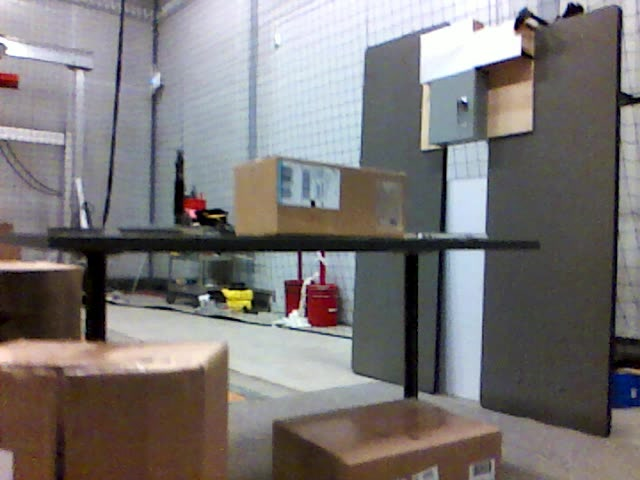box: (1, 338, 229, 480), (273, 399, 504, 480), (235, 157, 408, 234), (1, 261, 81, 337)
